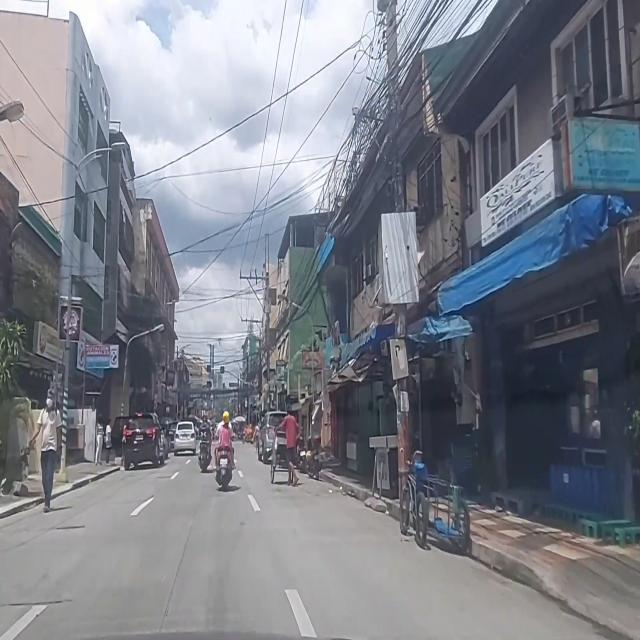car: (123, 412, 166, 470), (256, 410, 288, 465), (174, 419, 196, 454)
motorcycle: (212, 410, 236, 493), (197, 409, 214, 472), (304, 434, 323, 480)
tricycle: (400, 447, 472, 555)
